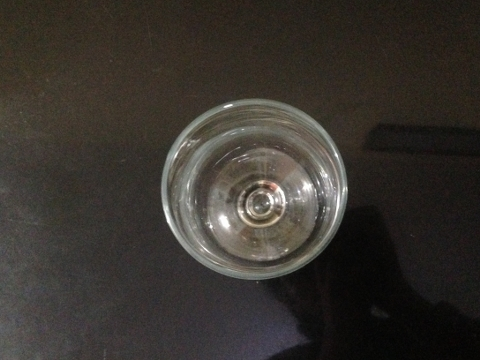tempat minum: (160, 97, 348, 281)
